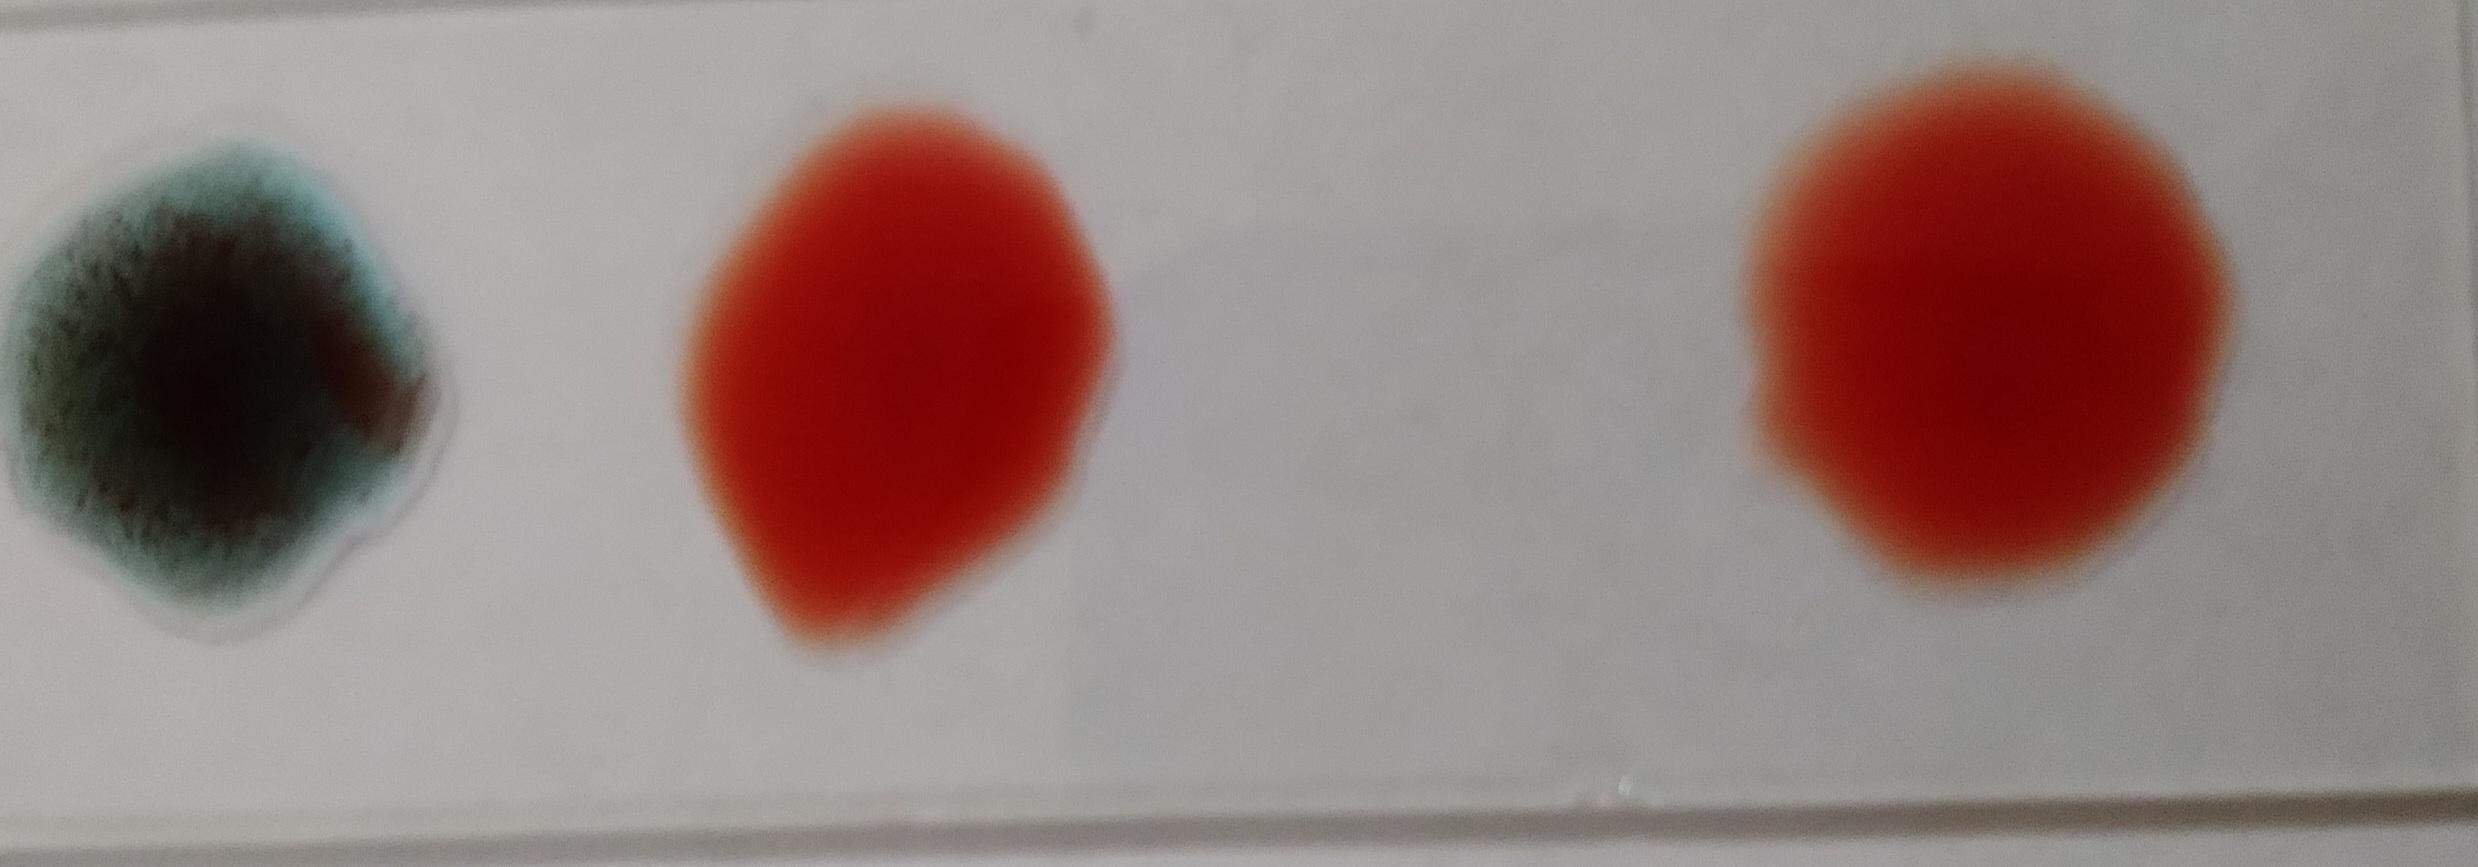A: (28, 167, 427, 611)
